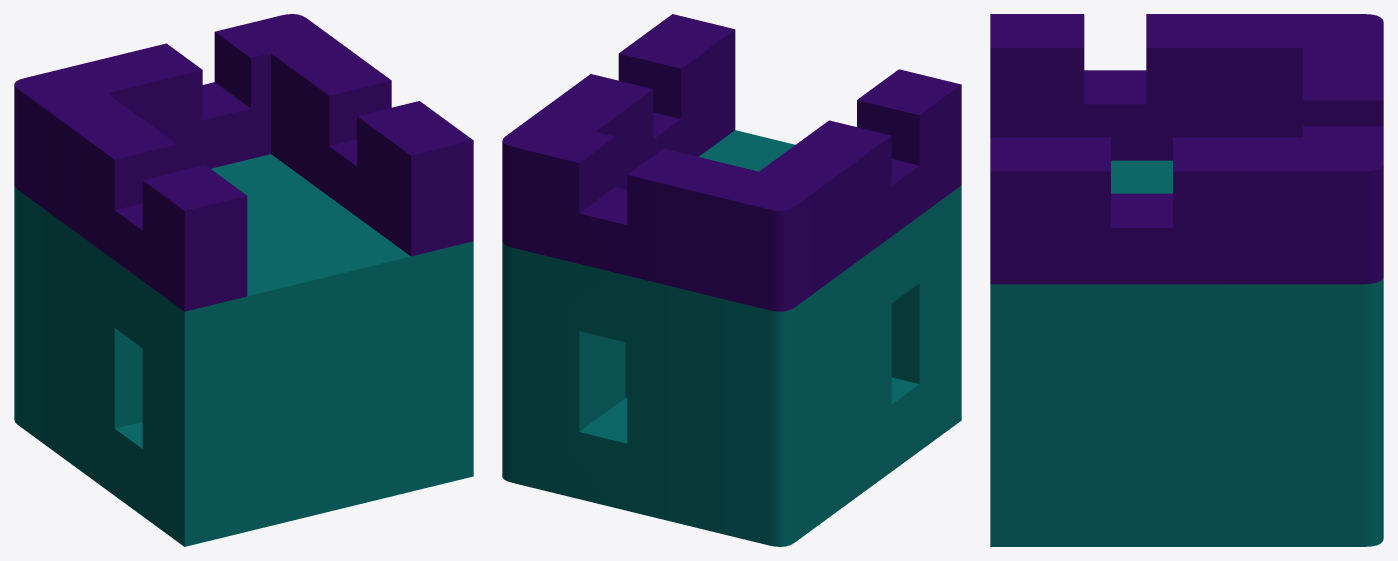
Rendered from Roof_01_I_R.fbx.
3 renders of one model, left to right at view 1: azimuth 30°, elevation 25°; view 2: azimuth 150°, elevation 25°; view 3: azimuth 270°, elevation 25°, orthographic. The views are drawn at different scales.
Visible parts, largest first — view 1: 3, 1, 4, 2; view 2: 4, 2, 3, 1; view 3: 2, 1, 3, 4.
Part boxes in pixels (x1=…): 3: x1=96, y1=131, x2=328, y2=546; 1: x1=247, y1=76, x2=473, y2=511; 4: x1=14, y1=47, x2=188, y2=482; 2: x1=153, y1=14, x2=384, y2=210; 4: x1=641, y1=134, x2=873, y2=546; 2: x1=502, y1=78, x2=676, y2=513; 3: x1=811, y1=69, x2=961, y2=484; 1: x1=585, y1=14, x2=795, y2=171; 2: x1=1187, y1=92, x2=1383, y2=546; 1: x1=990, y1=137, x2=1186, y2=546; 3: x1=990, y1=14, x2=1186, y2=193; 4: x1=1187, y1=14, x2=1383, y2=137.
Size of the model in its own units: 180 by 200 by 190.
